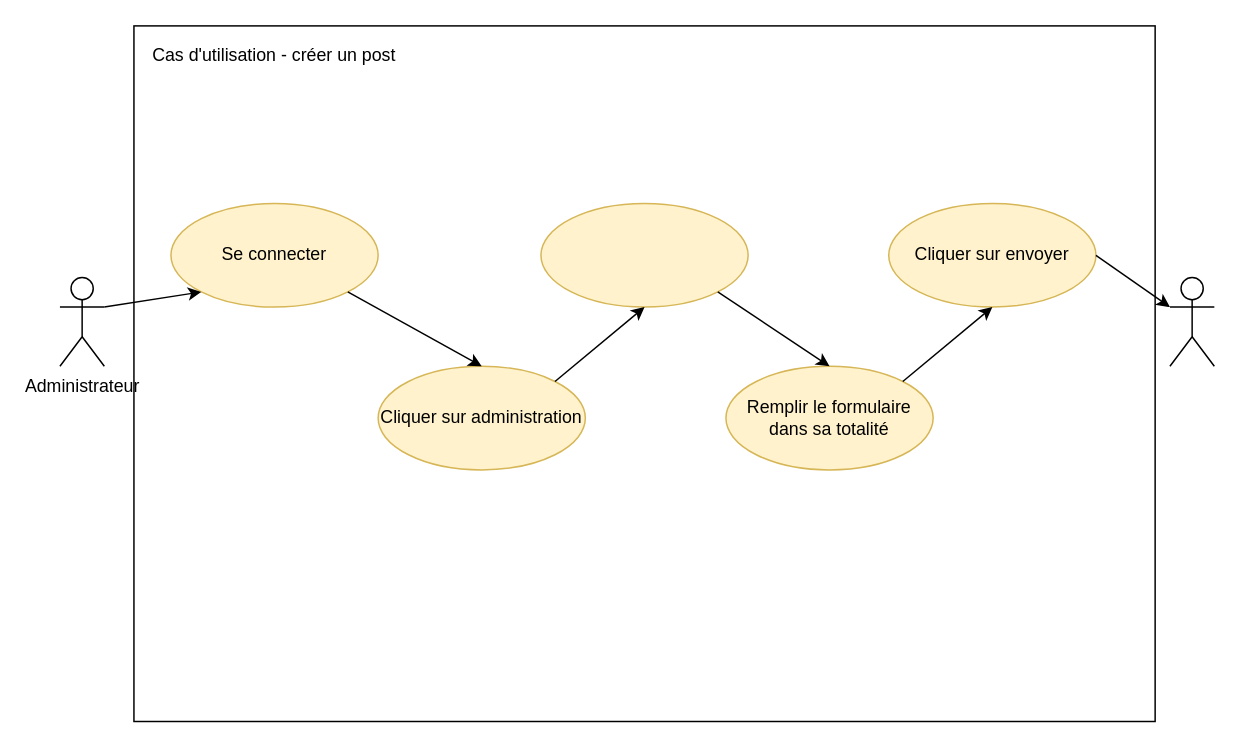
Some shapes in this 1252 by 747 pixel diagram are drawn without their labels. The shapes that lost their labels are listed below. From the top down, each one's centre as x and y in pixels, then its label:
At [643,254]: "Cliquer sur ajouter un billet".
At [1191,321]: "Système".
